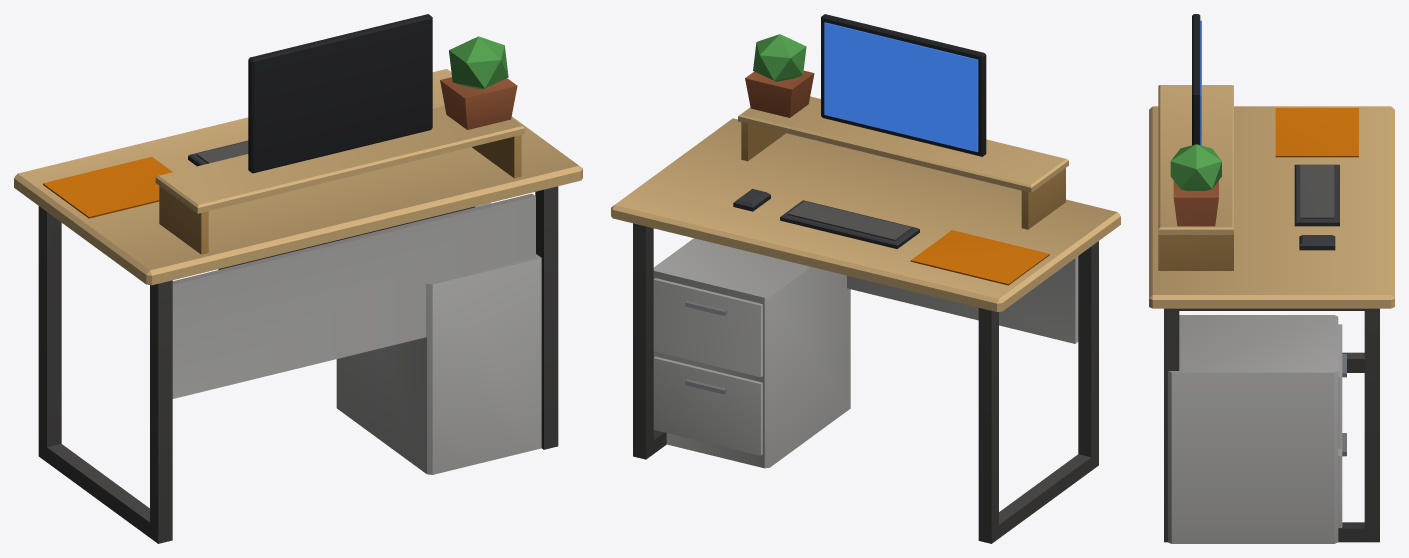
The model's file is desk_standard_03.glb.
3 views of the same model, side by side, from view 1: azimuth 30°, elevation 25°; view 2: azimuth 150°, elevation 25°; view 3: azimuth 270°, elevation 25° (orthographic). The views are drawn at different scales.
Parts seen in each view (by area): view 1: desk_standard_03_mesh; view 2: desk_standard_03_mesh, desk_standard_03_screen; view 3: desk_standard_03_mesh.
Part boxes in pixels (left/top/right/bottom): desk_standard_03_mesh: left=14, top=14, right=582, bottom=543; desk_standard_03_mesh: left=611, top=14, right=1120, bottom=543; desk_standard_03_screen: left=824, top=22, right=978, bottom=152; desk_standard_03_mesh: left=1149, top=14, right=1394, bottom=543.
Bounding box in the file's own units: 1.2 × 1.17 × 0.65.
Materials: 2 (2 with a texture image).
